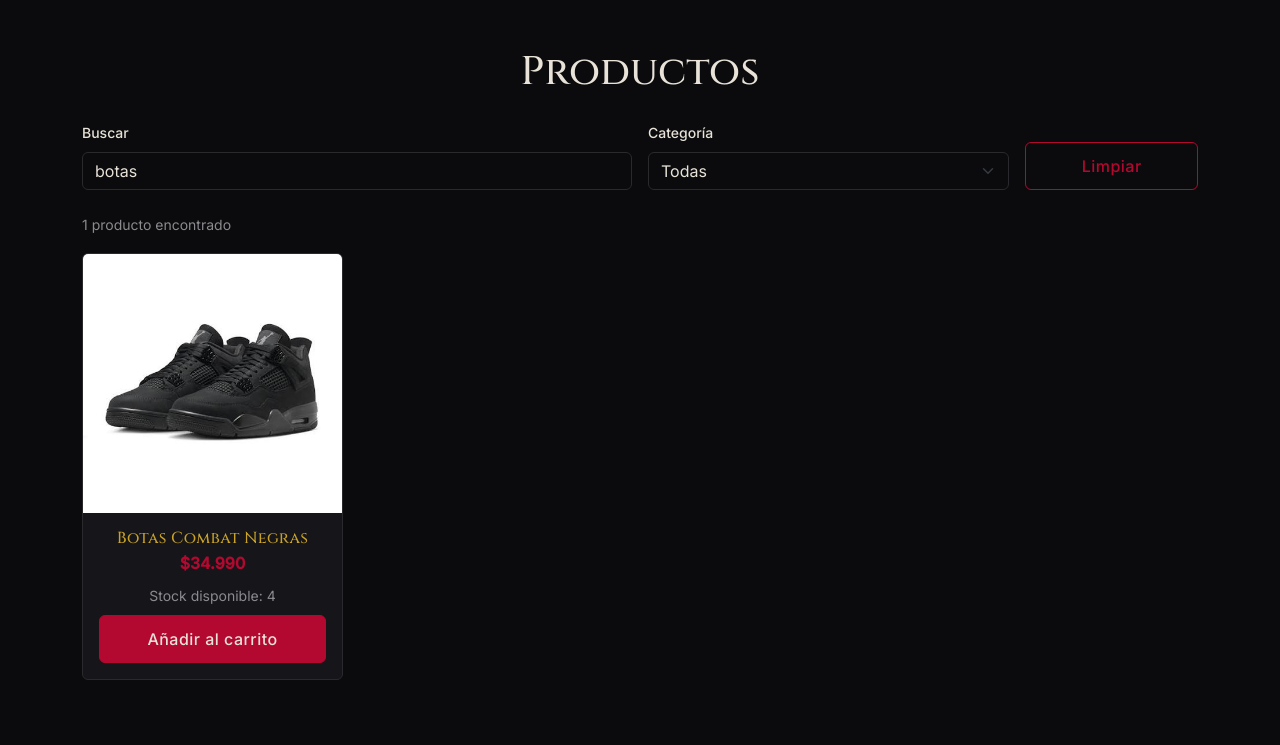
Test: Productos (lista y filtros) › al borrar el texto del buscador vuelve a mostrar todos los productos
Expected: the number of elements with class "card-producto" is 1, [82,253,343,680]
Clear the search field labelled "Buscar": x=357, y=171 [82,152,632,190]
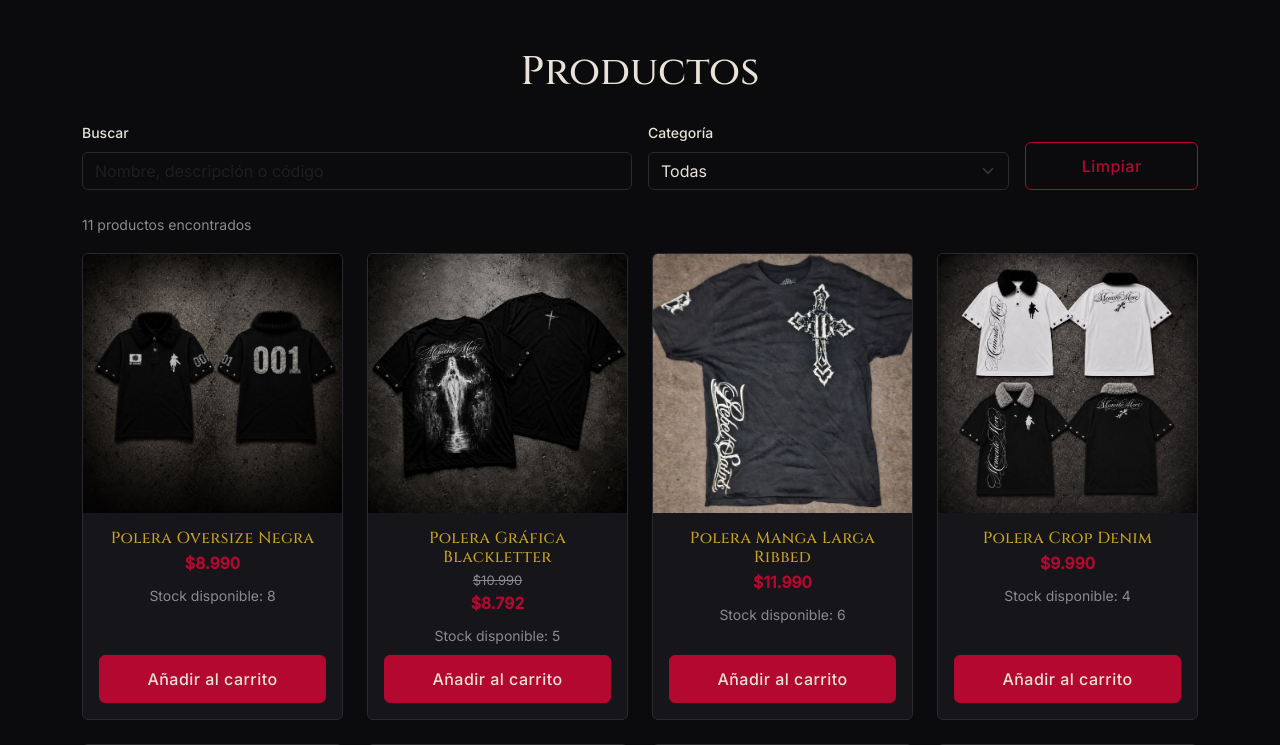
Expected: the number of elements with class "card-producto" is 11
